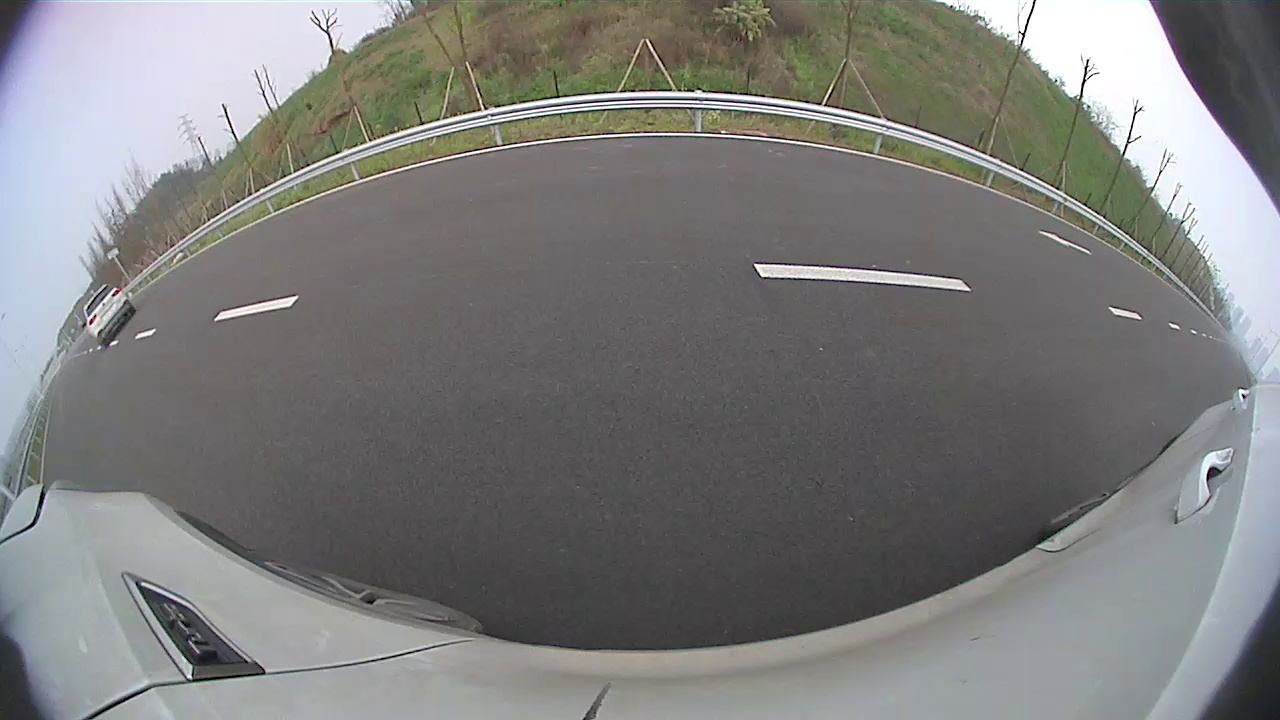car: (699, 147, 772, 196)
front: (698, 174, 708, 190)
rear: (713, 173, 726, 195)
